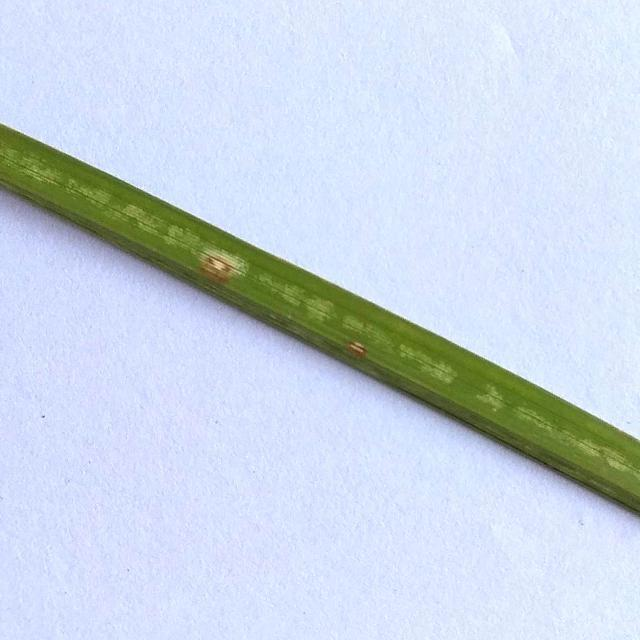Blast: (202, 256, 234, 286), (346, 340, 376, 358)
